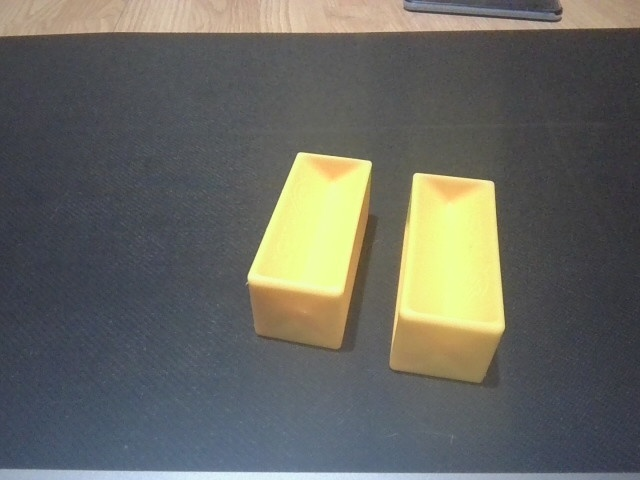YellowSample: (387, 164, 509, 398), (242, 148, 376, 357)
